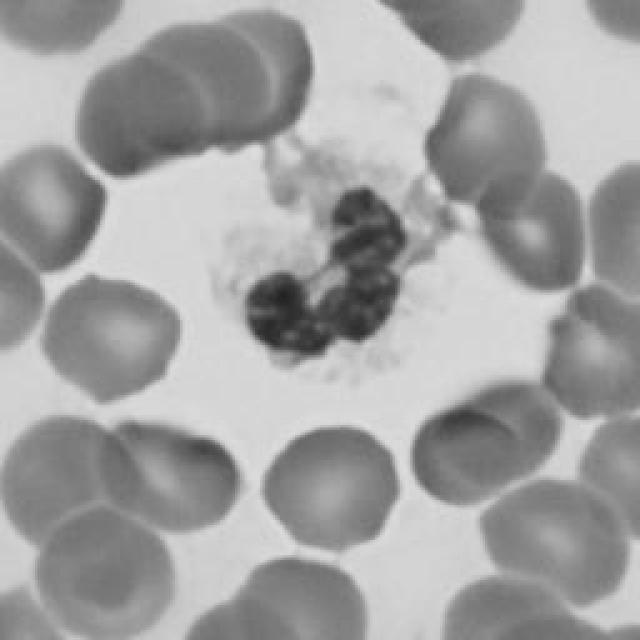RBC: (481, 470, 629, 610), (130, 20, 272, 158), (0, 413, 142, 551), (25, 506, 175, 634), (424, 71, 551, 219), (38, 274, 182, 401), (260, 425, 400, 547), (106, 420, 242, 530), (471, 168, 589, 292), (79, 56, 199, 176), (200, 10, 308, 142), (0, 146, 108, 266), (547, 286, 640, 418), (231, 557, 368, 640), (408, 408, 524, 504), (382, 0, 536, 68), (452, 380, 552, 482), (438, 577, 591, 640), (580, 413, 640, 545), (0, 0, 125, 58), (594, 162, 638, 292), (184, 595, 284, 640), (0, 252, 45, 350), (585, 0, 640, 58)
WBC: (210, 138, 465, 384)
